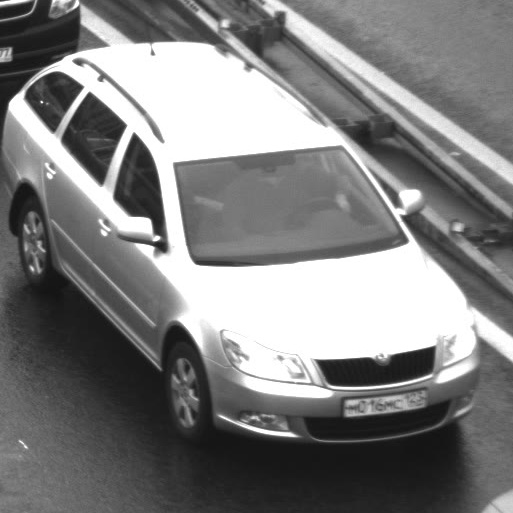plate: (336, 380, 433, 423)
